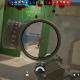Character: (37, 37, 41, 48)
